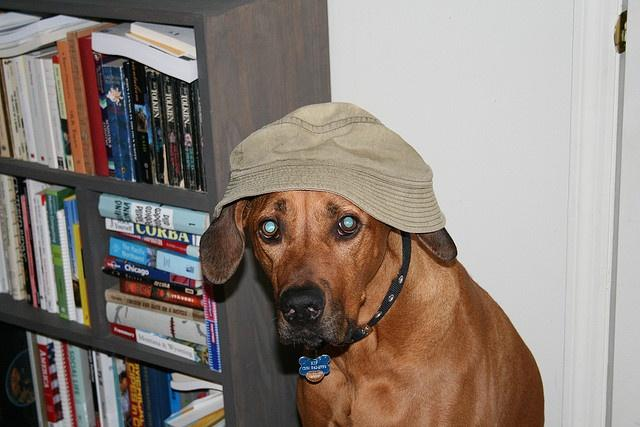Rak: (0, 0, 237, 426)
